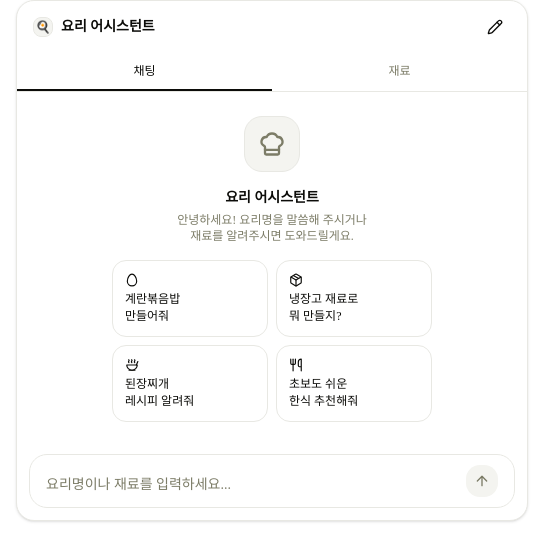
it: ChatLayout › switches to ingredient tab when "재료" tab is clicked
The image size is (545, 539).
Click the tab "재료".
click(400, 72)  # box [272,53,527,91]
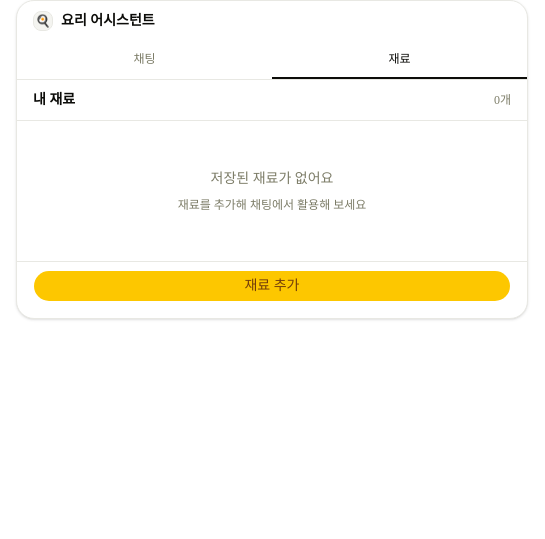
Now the button "재료 추가" is shown, box [33,270,511,302]
